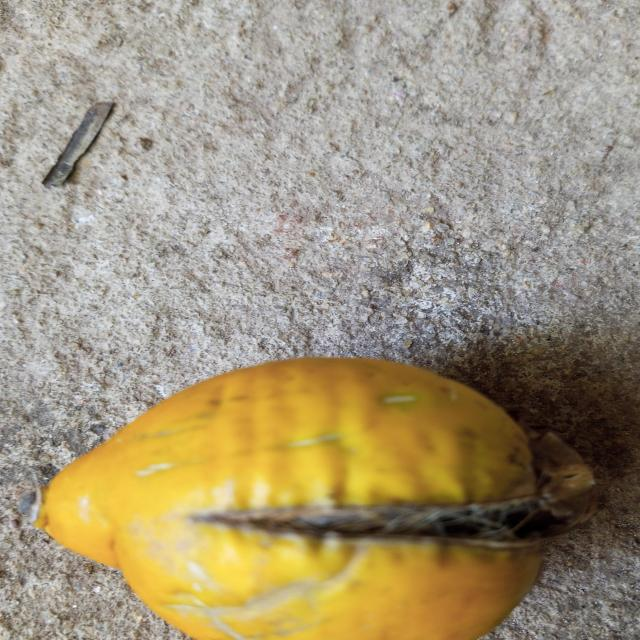damaged: (34, 357, 548, 640)
